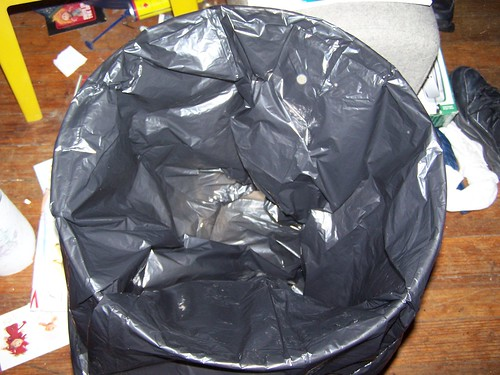trash can: (31, 21, 434, 375)
